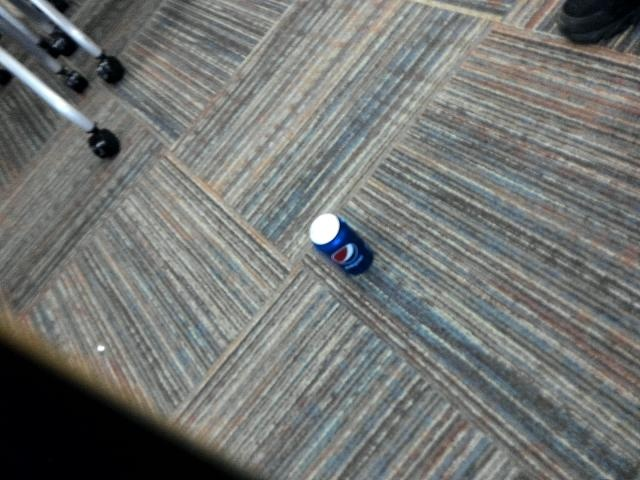can: (303, 210, 376, 288)
